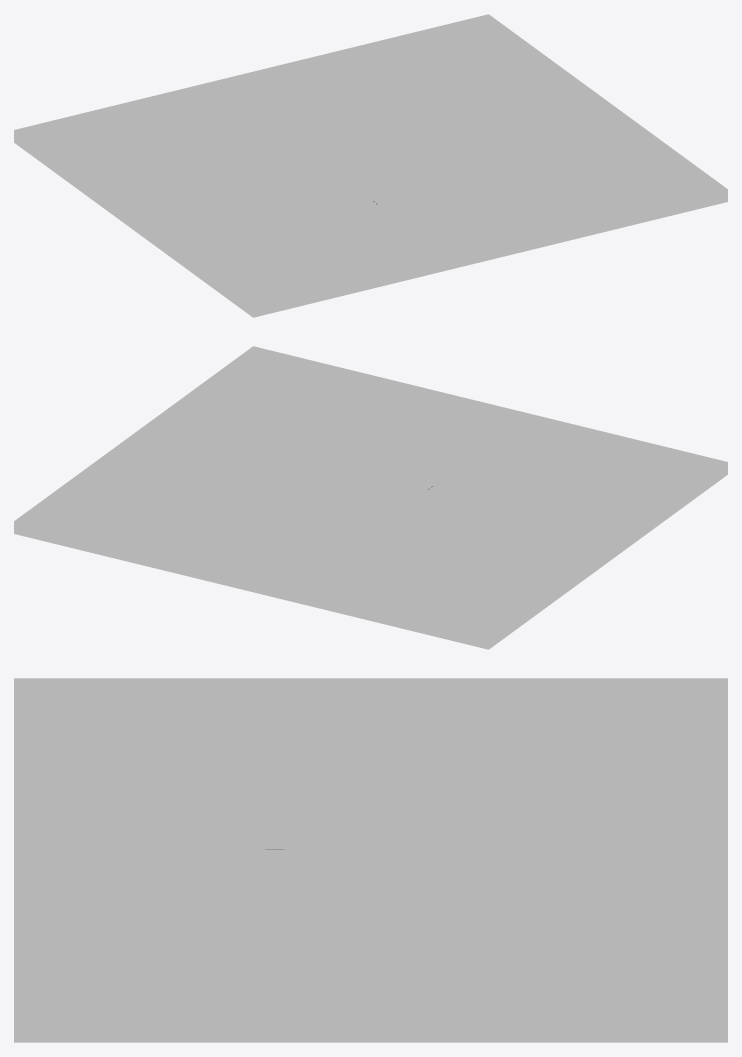
Rendered from penbay_pro.dae.
The picture shows the model from 3 angles, top to bottom: view 1: azimuth 30°, elevation 25°; view 2: azimuth 150°, elevation 25°; view 3: azimuth 270°, elevation 25°; orthographic projection. The views are drawn at different scales.
Parts seen in each view (by area): view 1: field, wall, road, il, ol; view 2: field, wall, road, il, ol; view 3: field, wall, road, il, ol.
Boxes of the visible parts, box(x1,y1,x2,y2) form: field: box(27, 27, 714, 304); wall: box(14, 14, 727, 317); road: box(243, 106, 516, 238); il: box(242, 106, 517, 238); ol: box(256, 111, 504, 233); field: box(27, 359, 714, 636); wall: box(14, 346, 727, 649); road: box(203, 452, 540, 553); il: box(202, 452, 541, 553); ol: box(216, 458, 527, 547); field: box(14, 697, 727, 1023); wall: box(14, 678, 727, 1042); road: box(205, 778, 536, 961); il: box(204, 777, 537, 962); ol: box(224, 786, 517, 953).
Bounding box in the file's own units: 39.35 × 34.35 × 1.
